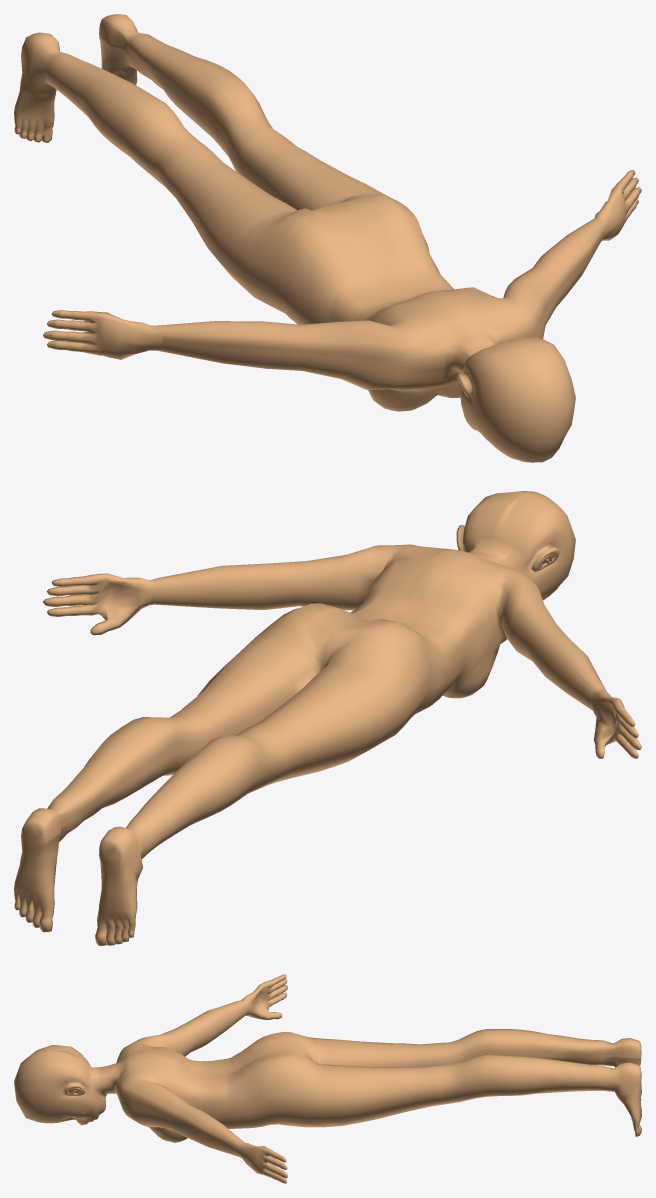
File: avatar.obj
The picture shows the model from 3 angles, top to bottom: view 1: azimuth 30°, elevation 25°; view 2: azimuth 150°, elevation 25°; view 3: azimuth 270°, elevation 25°; orthographic projection. The views are drawn at different scales.
Visible parts, largest first — view 1: Avatar; view 2: Avatar; view 3: Avatar.
Part boxes in pixels (x1,y1,x2,y2): Avatar: (14, 14, 641, 462); Avatar: (14, 491, 641, 945); Avatar: (14, 974, 641, 1183).
Bounding box in the file's own units: 3.24 × 0.6854 × 4.5.
